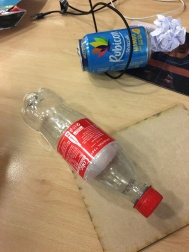bottle_red: (11, 77, 176, 225)
can_blue: (65, 24, 151, 77)
paper_white: (148, 18, 185, 55)
